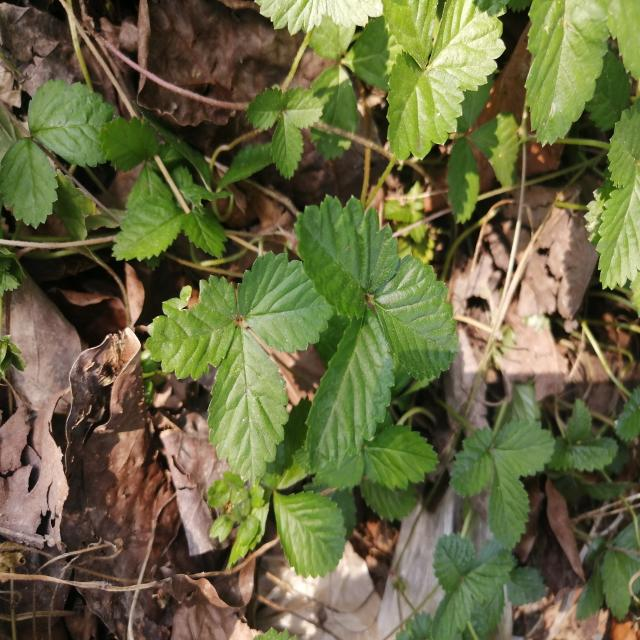Mock_strawberry: (303, 202, 462, 492)
